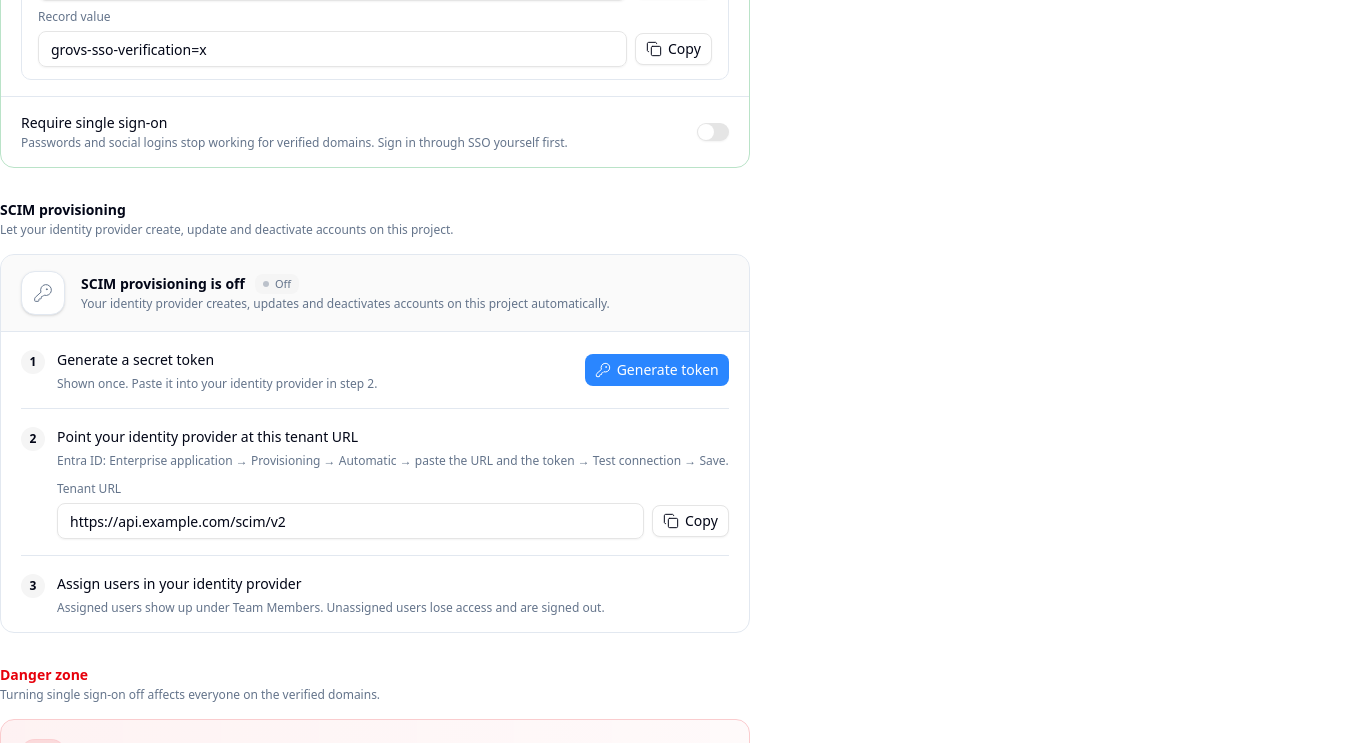
Scenario: SsoSection › shows the SCIM token once after generating it
The width and height of the screenshot is (1366, 743).
(page scrolled)
Click the button "Generate token": x=657, y=370 [585,354,729,386]
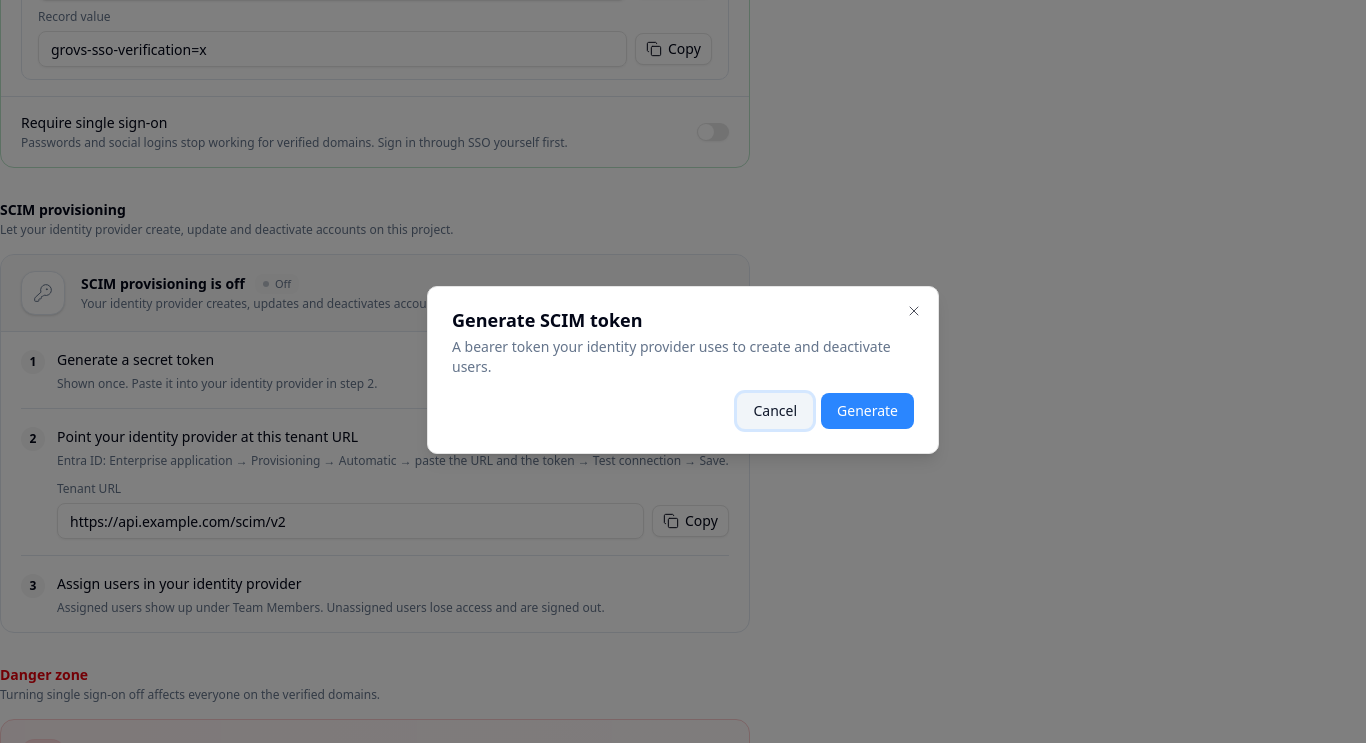
Click the button "Generate": x=868, y=411 [821,393,914,429]
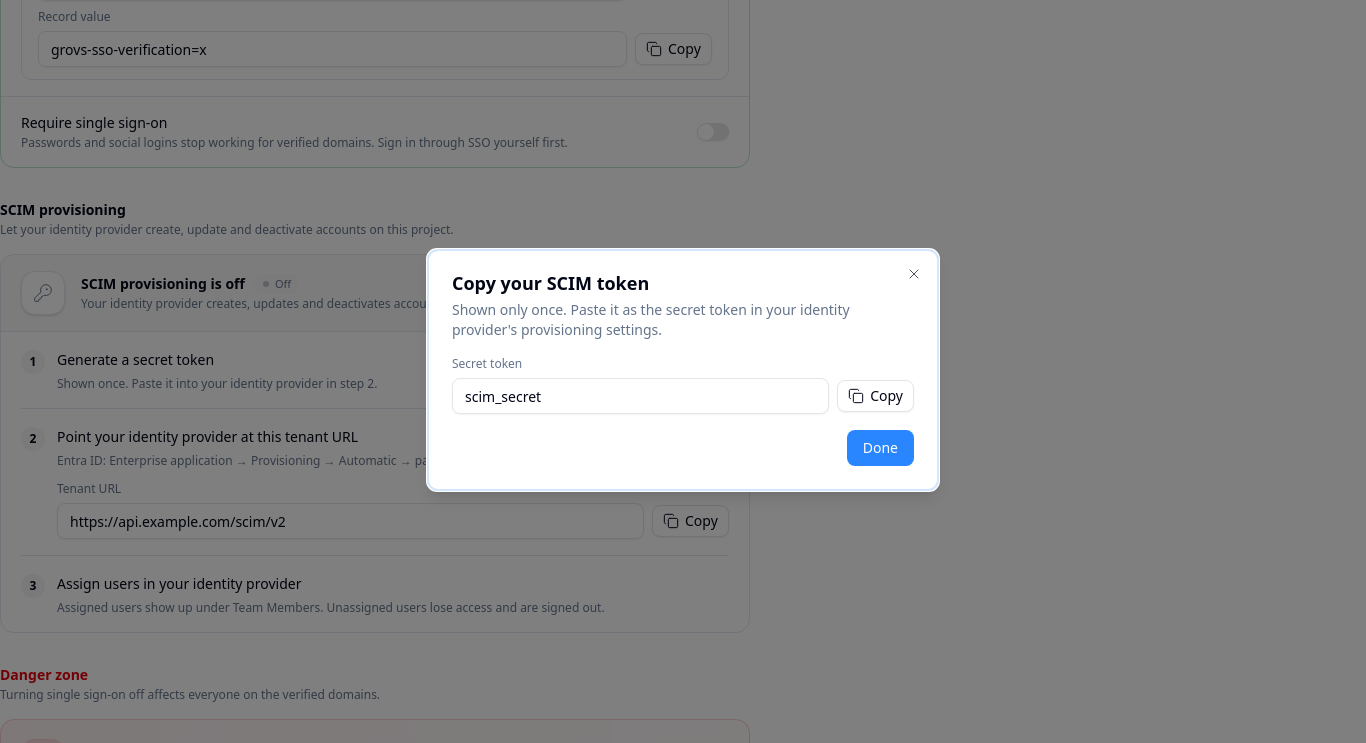
expect the field showing "scim_secret" is shown: met, box [452,378,829,414]
expect the heading "Copy your SCIM token" is shown: met, box [452,271,649,295]
